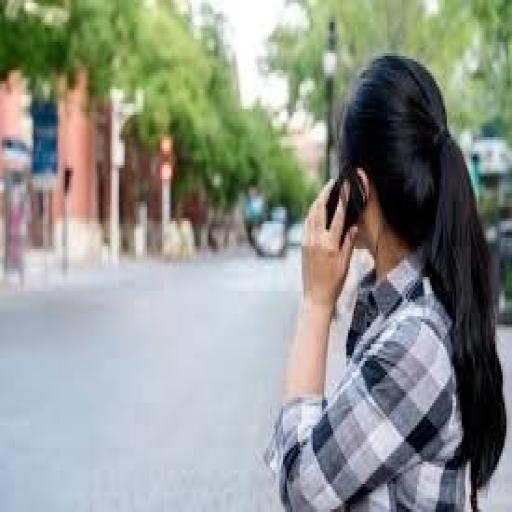calling: (264, 50, 506, 510)
